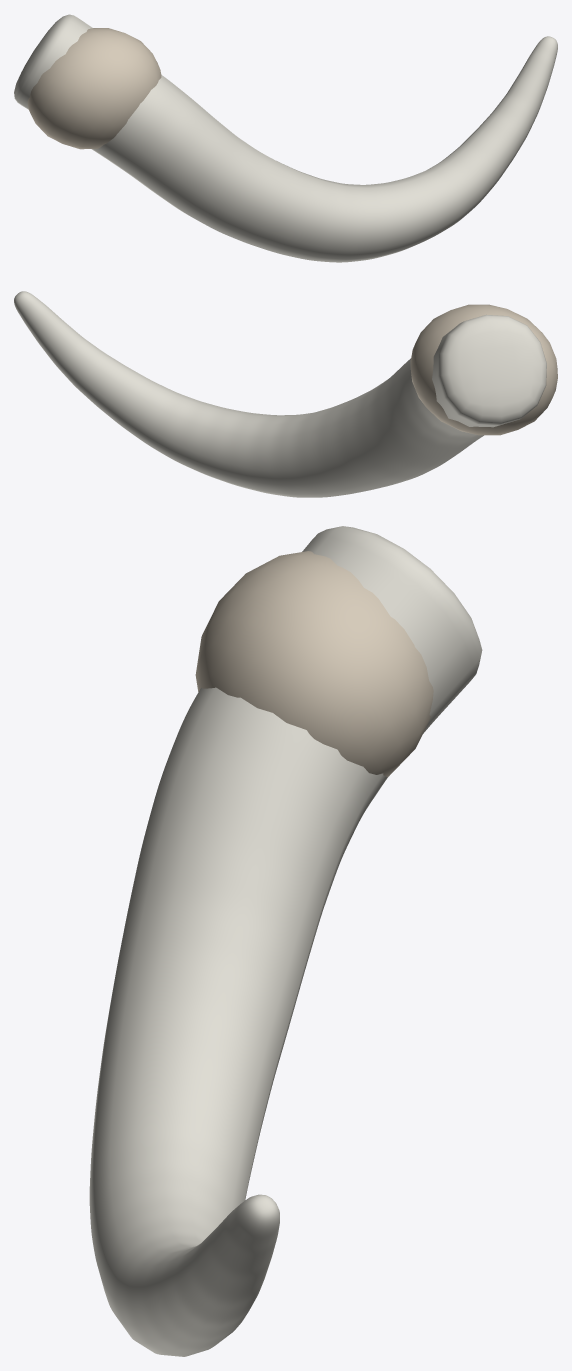
Rendered from creature.tusks.glb.
3 views of the same model, one above another, from view 1: azimuth 30°, elevation 25°; view 2: azimuth 150°, elevation 25°; view 3: azimuth 270°, elevation 25° (orthographic). The views are drawn at different scales.
Parts seen in each view (by area): view 1: Bone, Skin; view 2: Bone, Skin; view 3: Bone, Skin.
Part boxes in pixels (x1=…): Bone: x1=14, y1=14, x2=557, y2=262; Skin: x1=27, y1=28, x2=161, y2=149; Bone: x1=14, y1=291, x2=546, y2=497; Skin: x1=410, y1=304, x2=557, y2=435; Bone: x1=89, y1=526, x2=482, y2=1356; Skin: x1=195, y1=551, x2=433, y2=776.
Size of the model in its own units: 1.66 by 0.8017 by 0.5492.
